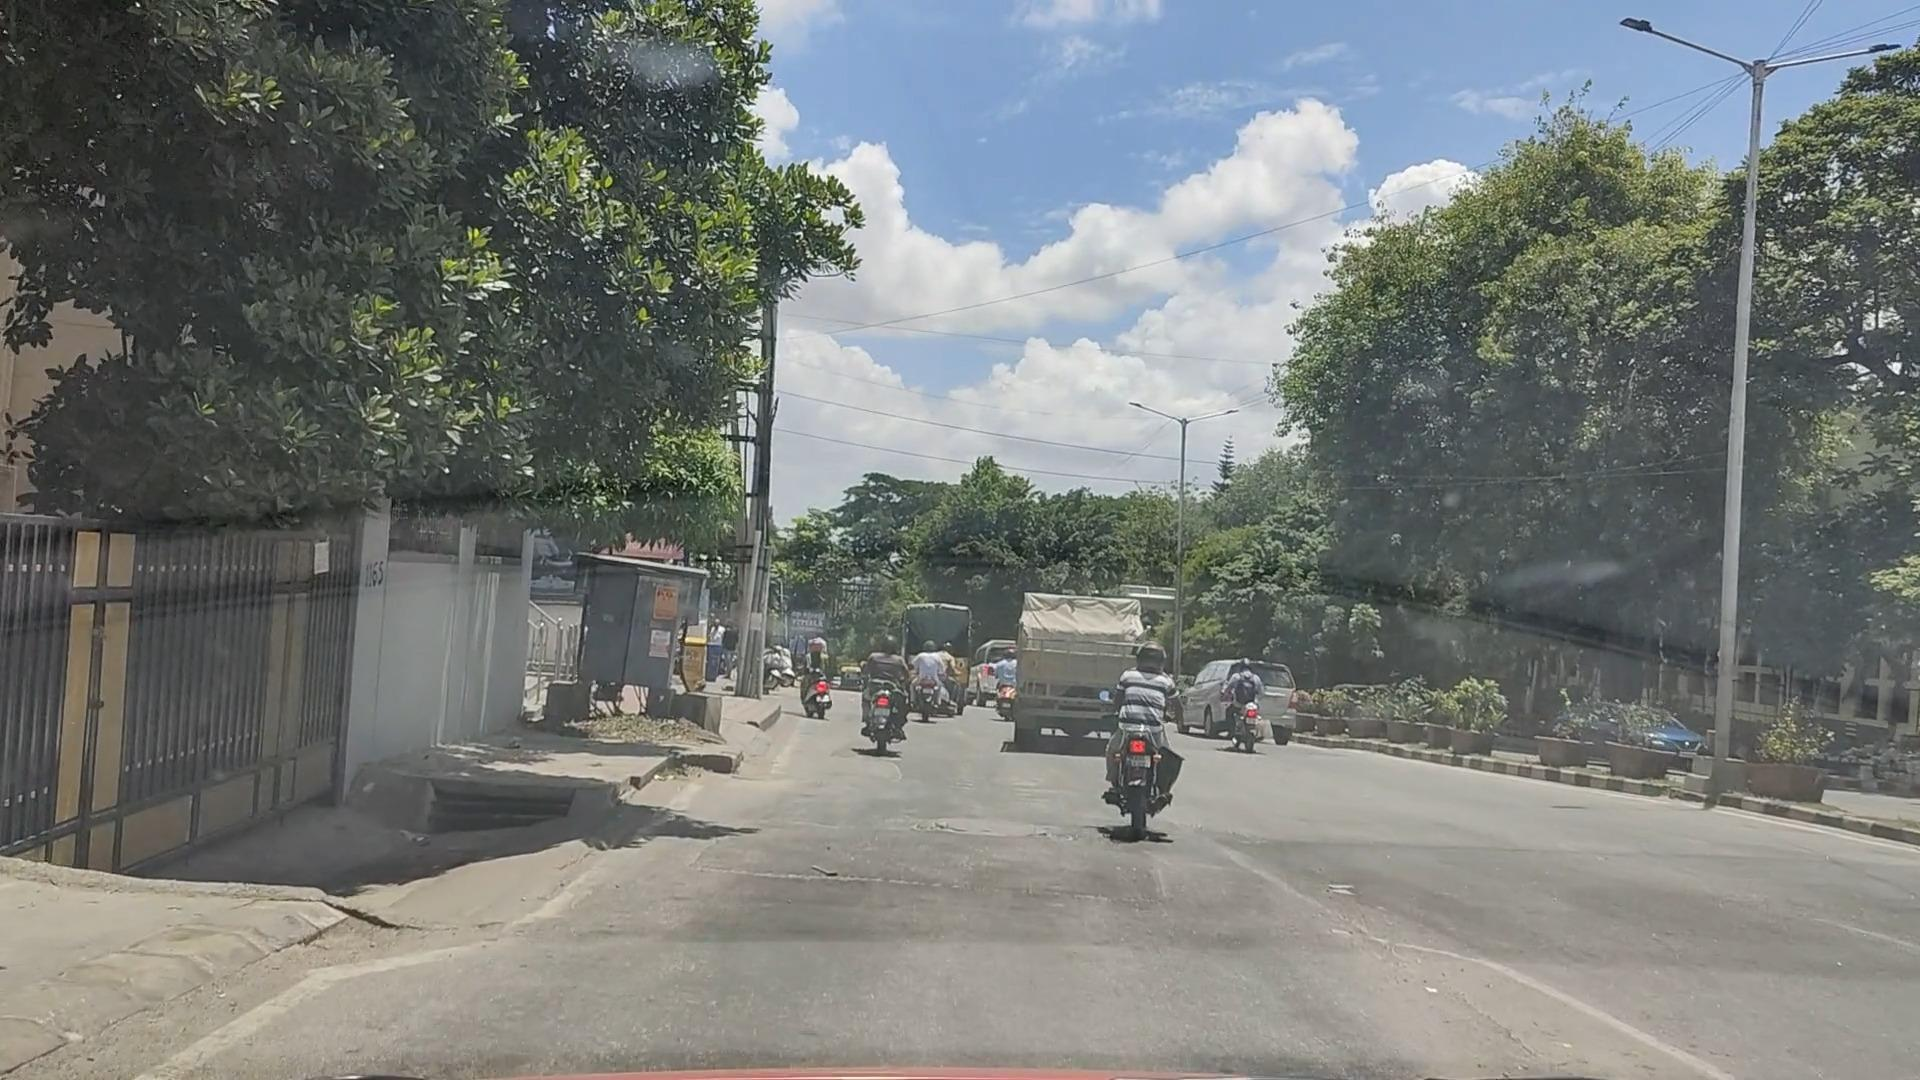HMV: (986, 574, 1151, 748), (891, 588, 990, 721)
RoadDamages: (1311, 889, 1564, 1080), (886, 774, 1092, 858)
